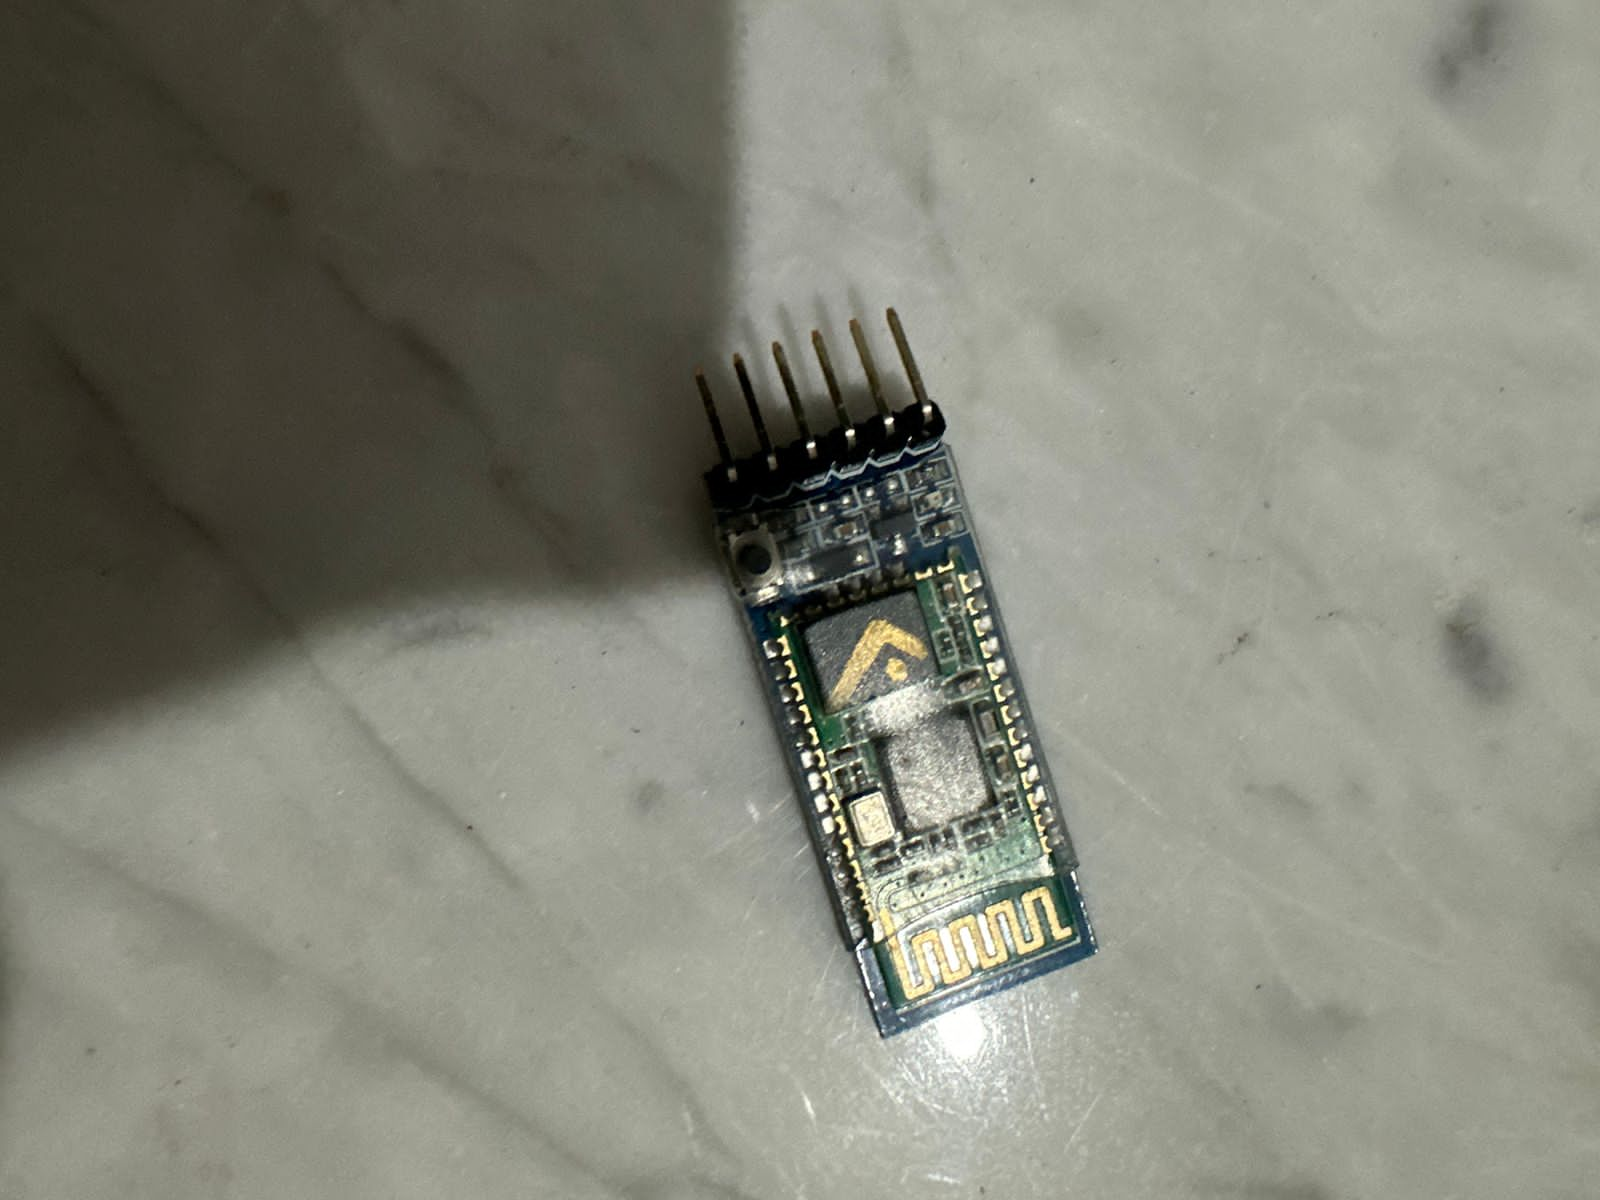module-bluetooth: (694, 308, 1126, 1037)
